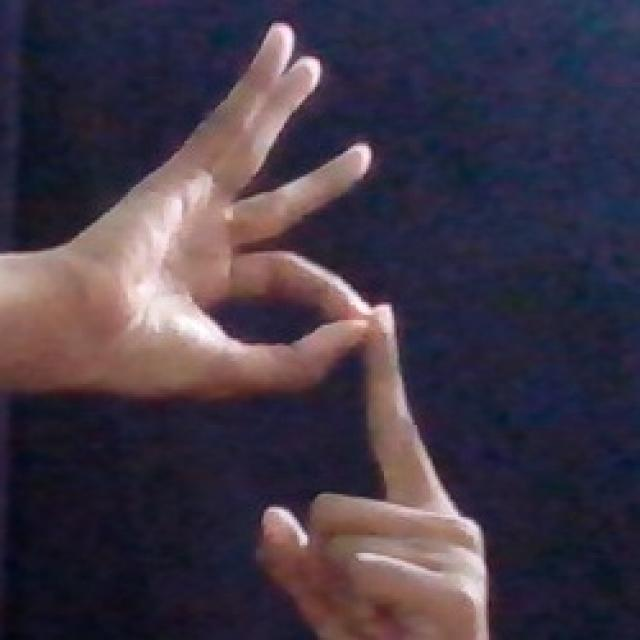Alphabet-P: (66, 15, 496, 640)
